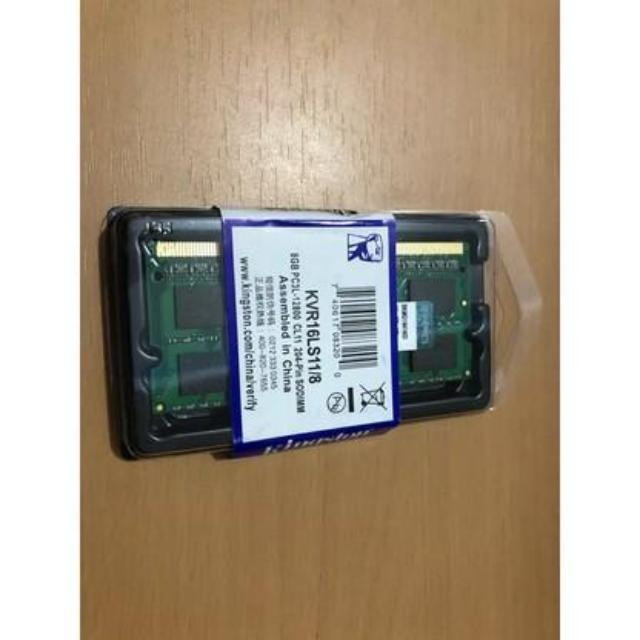RAM: (130, 226, 478, 417)
